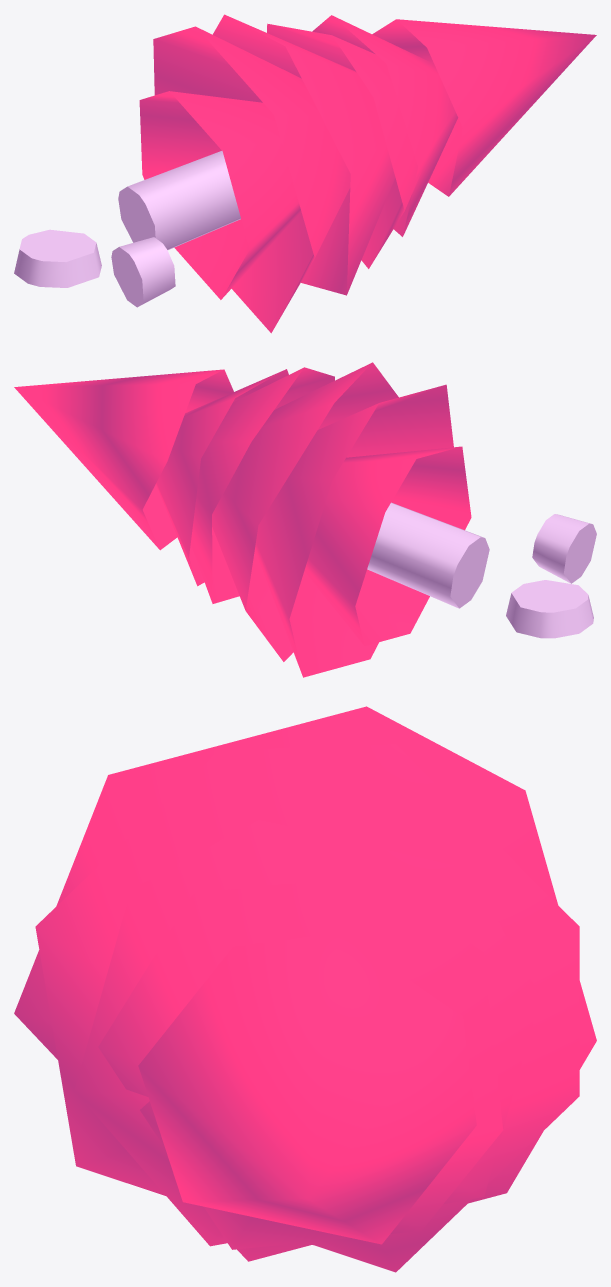
The model's file is FolklostTree3.fbx.
The picture shows the model from 3 angles, top to bottom: view 1: azimuth 30°, elevation 25°; view 2: azimuth 150°, elevation 25°; view 3: azimuth 270°, elevation 25°; orthographic projection. The views are drawn at different scales.
Visible parts, largest first — view 1: pasted__pCone1, pCone1, pasted__pCone5, pasted__pCone2, pasted__pCylinder2, pasted__pCone4, pasted__pCone3, pasted__pCylinder1, pasted__pCylinder3; view 2: pasted__pCone1, pCone1, pasted__pCone5, pasted__pCone2, pasted__pCone3, pasted__pCylinder2, pasted__pCone4, pasted__pCylinder1, pasted__pCylinder3; view 3: pasted__pCone5, pasted__pCone2, pasted__pCone4, pasted__pCone3, pasted__pCone1.
Boxes of the visible parts, bbox=[...] form: pasted__pCone1: bbox=[153, 26, 350, 333]; pCone1: bbox=[139, 91, 301, 299]; pasted__pCone5: bbox=[372, 19, 596, 196]; pasted__pCone2: bbox=[212, 14, 395, 295]; pasted__pCylinder2: bbox=[118, 151, 240, 249]; pasted__pCone4: bbox=[312, 15, 458, 236]; pasted__pCone3: bbox=[267, 23, 421, 268]; pasted__pCylinder1: bbox=[14, 229, 101, 287]; pasted__pCylinder3: bbox=[111, 237, 175, 307]; pasted__pCone1: bbox=[255, 384, 453, 677]; pCone1: bbox=[304, 446, 471, 645]; pasted__pCone5: bbox=[14, 369, 233, 550]; pasted__pCone2: bbox=[212, 362, 398, 661]; pasted__pCone3: bbox=[190, 367, 334, 603]; pasted__pCylinder2: bbox=[367, 502, 489, 608]; pasted__pCone4: bbox=[156, 369, 288, 586]; pasted__pCylinder1: bbox=[506, 580, 593, 638]; pasted__pCylinder3: bbox=[532, 514, 596, 583]; pasted__pCone5: bbox=[138, 933, 476, 1244]; pasted__pCone2: bbox=[35, 744, 579, 1272]; pasted__pCone4: bbox=[98, 874, 503, 1249]; pasted__pCone3: bbox=[74, 820, 540, 1246]; pasted__pCone1: bbox=[14, 706, 596, 1261].
Size of the model in its own units: 7.24 by 3.52 by 3.58.
